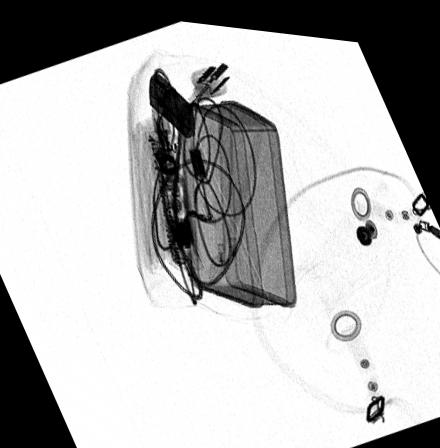Lighter: (148, 69, 194, 135)
